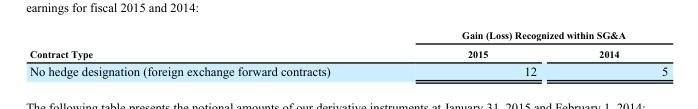table: (28, 28, 667, 77)
table column: (28, 28, 395, 77), (395, 28, 567, 77), (567, 28, 667, 77)
table column header: (28, 28, 667, 61)
table row: (28, 43, 667, 61), (28, 61, 667, 77), (28, 28, 667, 43)
table spanning cell: (28, 28, 395, 61), (395, 28, 667, 43)
